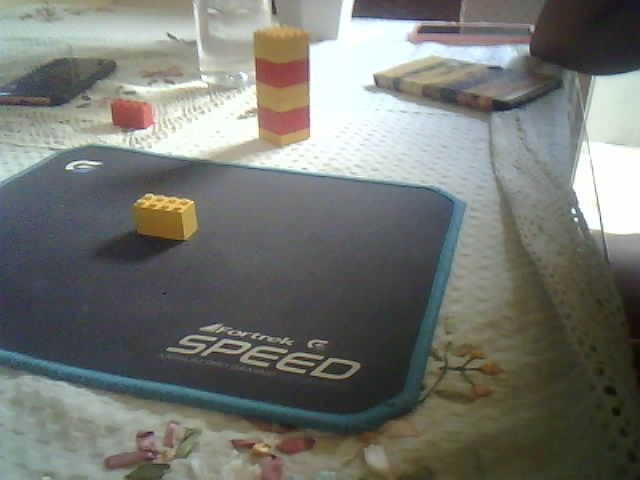lego: (252, 26, 311, 148), (132, 192, 199, 242), (110, 97, 155, 130)
